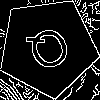Q: (22, 22, 79, 82)
